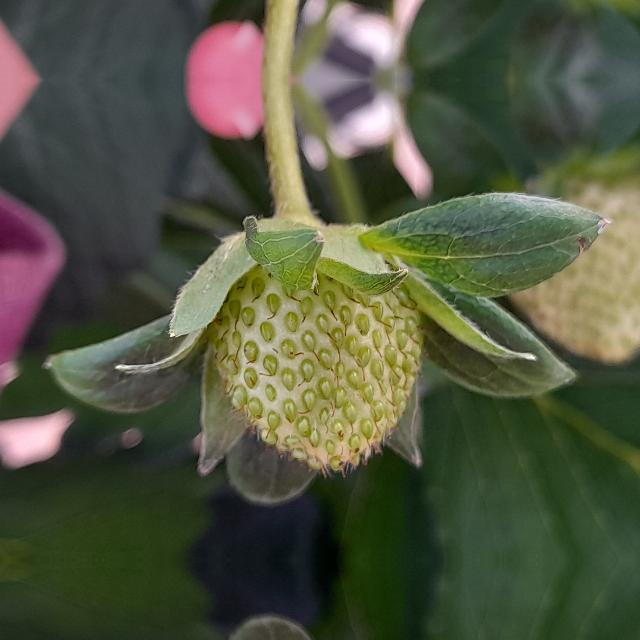Health_25: (212, 223, 428, 479)
